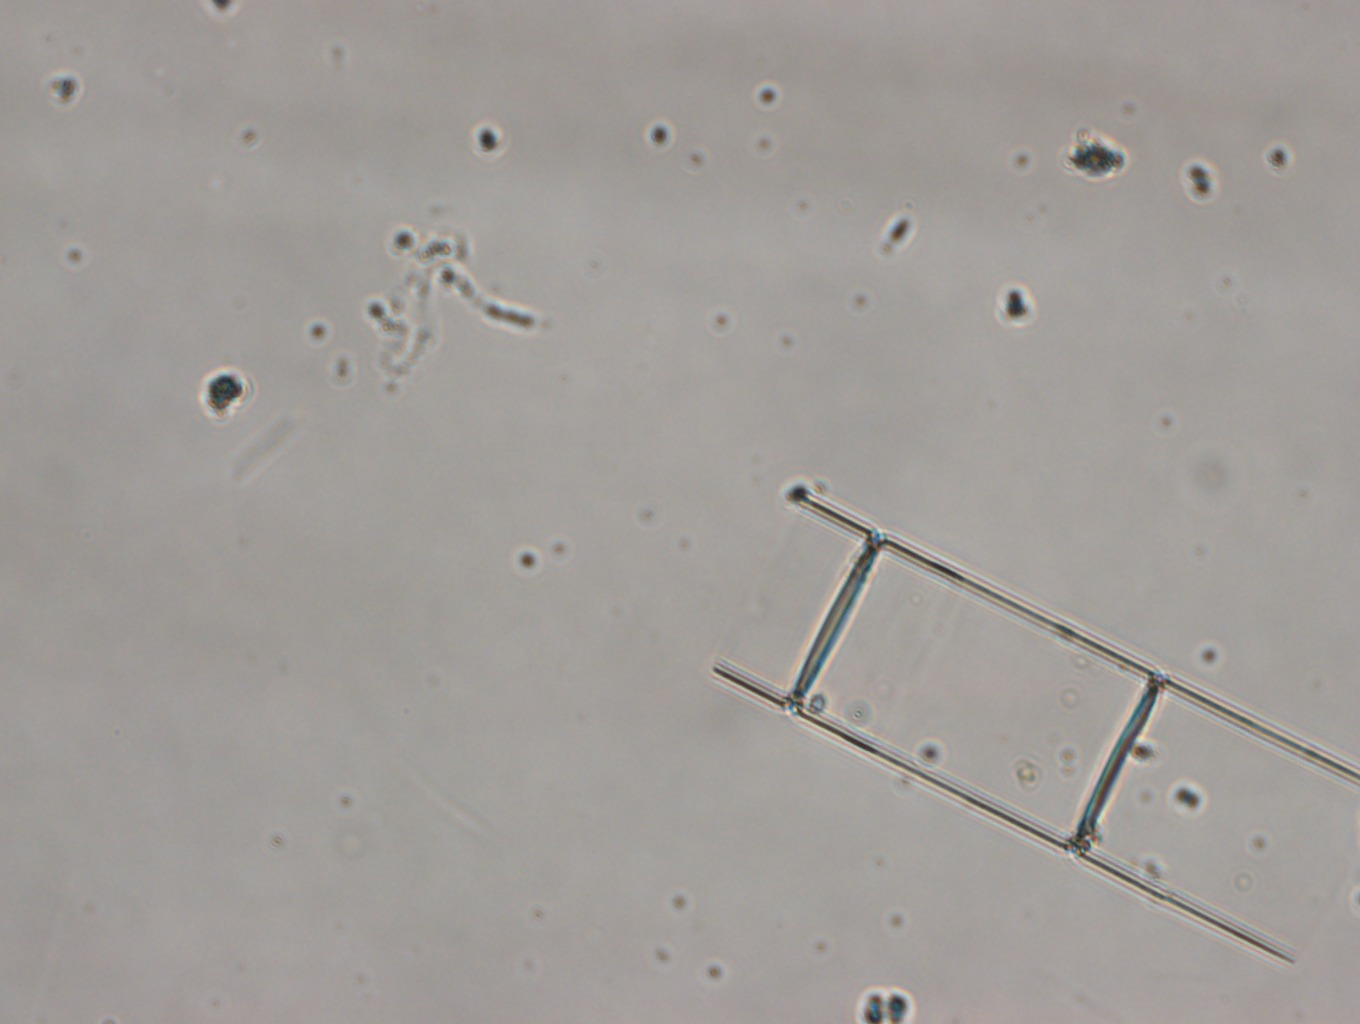guinardia flaccida: (712, 494, 1360, 963)
